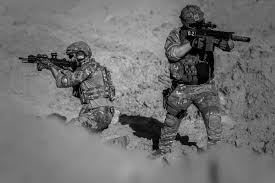gun: (186, 19, 251, 50), (16, 51, 76, 72)
